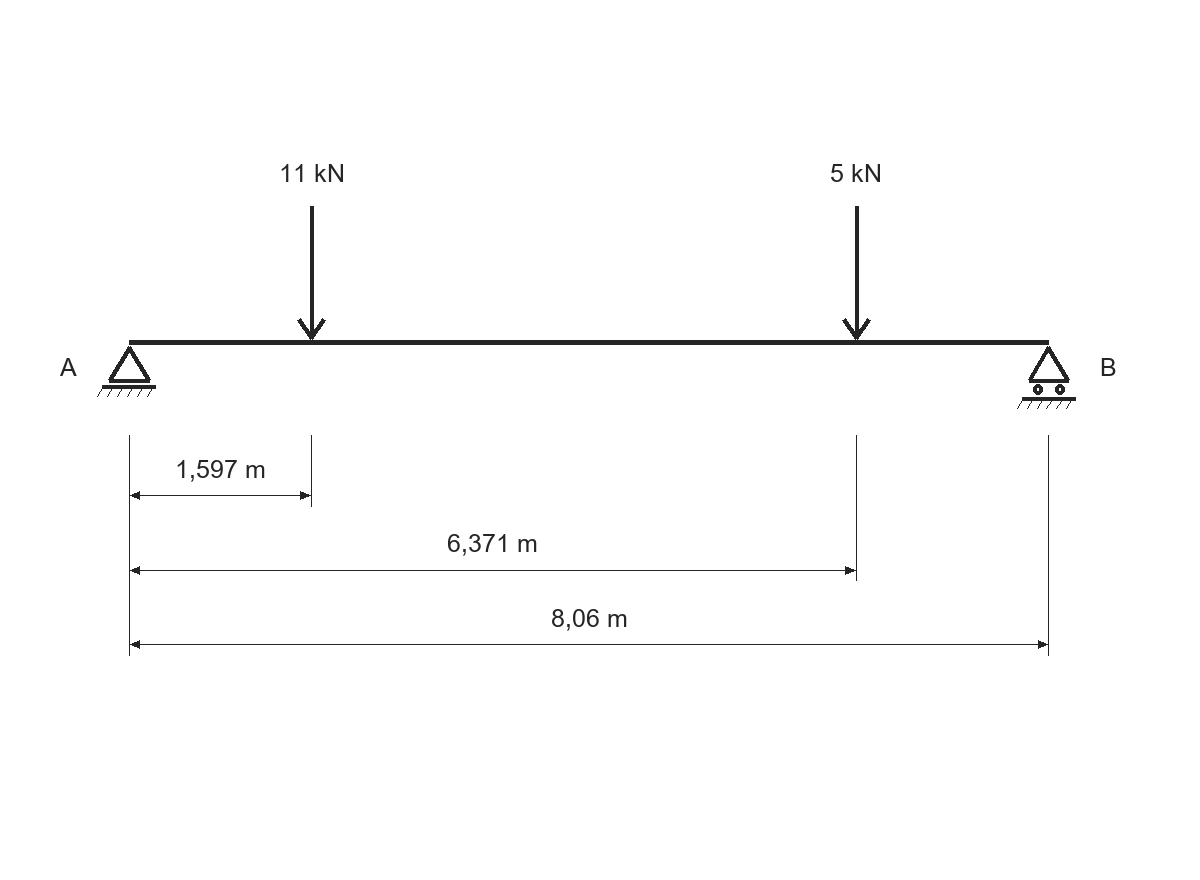pin_support: (97, 346, 156, 397)
point_load: (297, 206, 326, 340), (842, 206, 871, 340)
roller_support: (1017, 346, 1076, 409)
